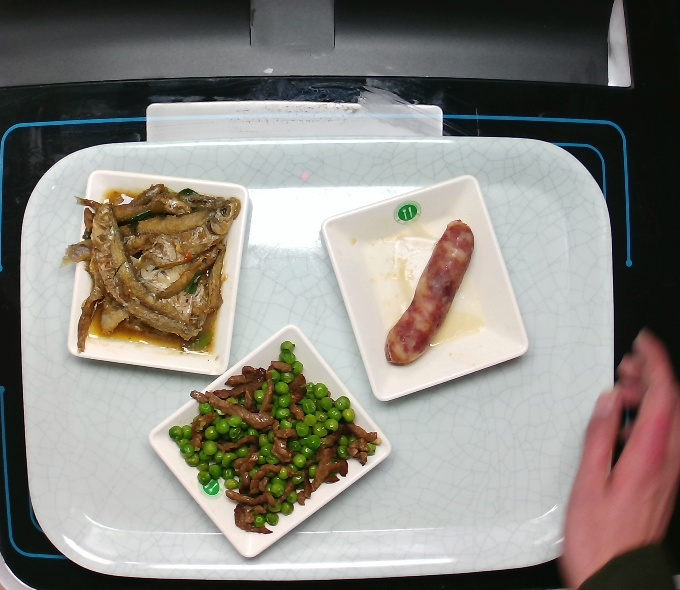wcq-CanDouNiuRou: (158, 333, 386, 539)
wcq-XiangChang: (371, 214, 488, 370)
wcq-XiaoJiYu: (50, 179, 242, 360)
